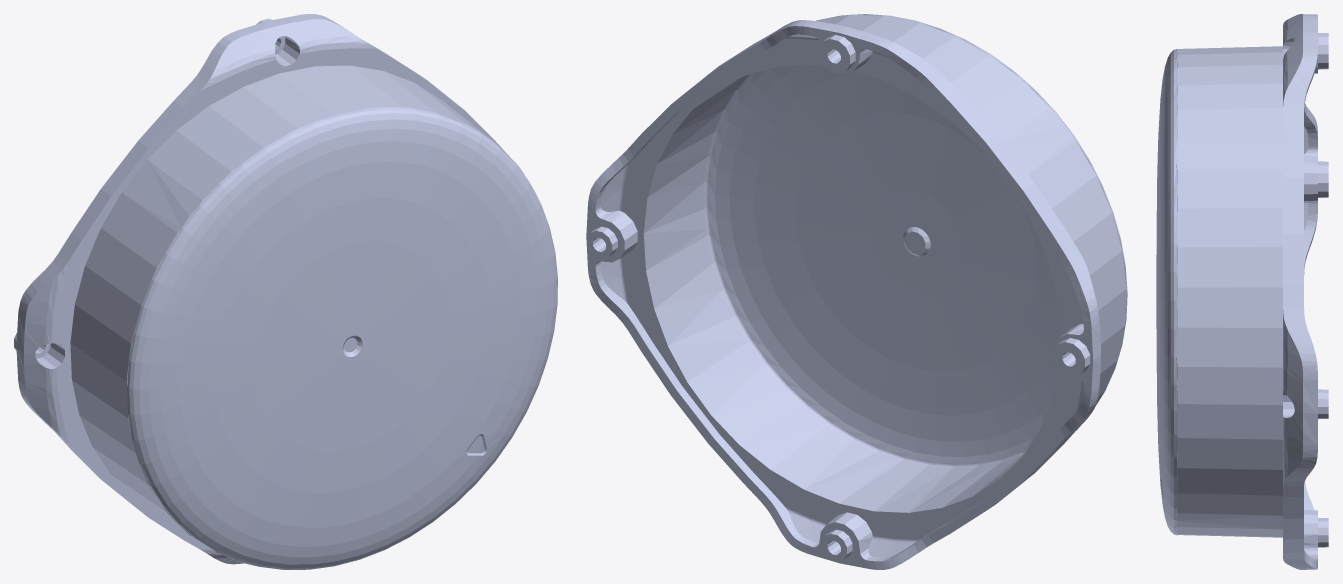
The model's file is F_LEIDA_Link_mesh.obj.
The picture shows the model from 3 angles, left to right: view 1: azimuth 30°, elevation 25°; view 2: azimuth 150°, elevation 25°; view 3: azimuth 270°, elevation 25°; orthographic projection. The views are drawn at different scales.
Bounding box in the file's own units: 0.0816 × 0.0816 × 0.0245.
